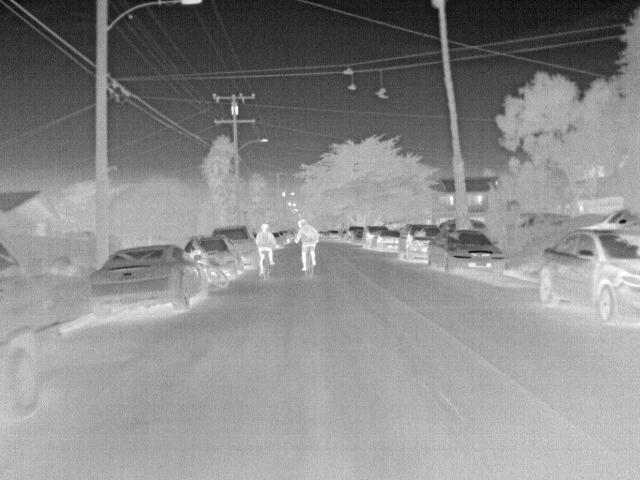car: (542, 225, 639, 327), (1, 239, 48, 421), (89, 244, 211, 311), (428, 232, 509, 278), (188, 237, 244, 278), (210, 224, 257, 269), (394, 225, 438, 263), (373, 230, 405, 248), (363, 224, 386, 248), (342, 224, 360, 244), (350, 228, 364, 246), (328, 229, 340, 240)
person: (256, 222, 278, 272), (299, 218, 320, 270)
